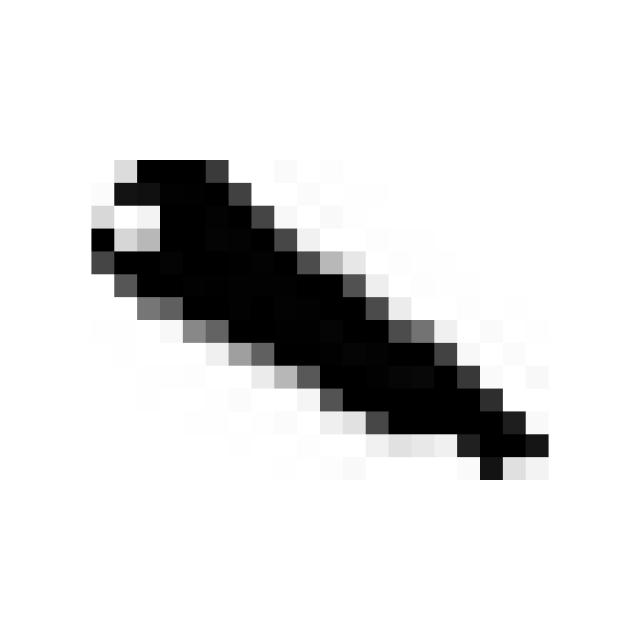0 -zero-: (71, 135, 561, 496)
